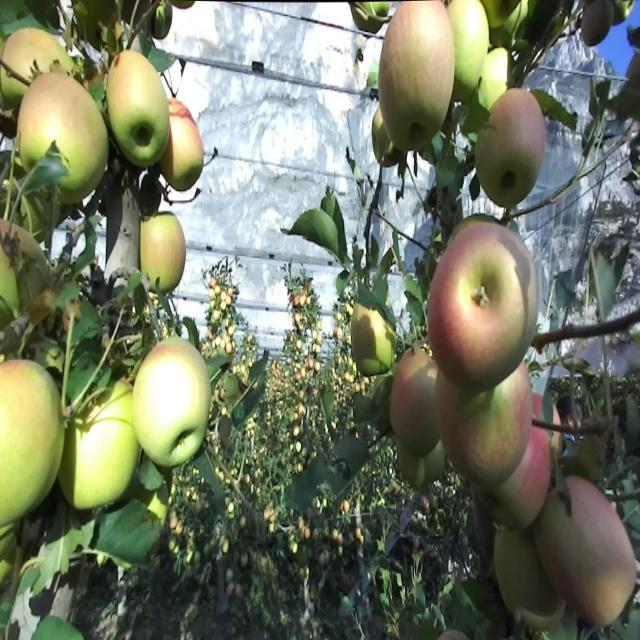apple: (56, 376, 148, 514), (380, 0, 460, 140), (0, 355, 66, 524), (132, 333, 213, 469), (472, 84, 549, 213), (52, 77, 116, 208), (468, 362, 533, 482), (108, 49, 167, 156), (56, 99, 111, 204), (388, 348, 444, 448), (496, 92, 548, 185), (0, 28, 58, 108), (16, 77, 66, 169), (512, 419, 552, 530), (140, 212, 188, 299), (448, 0, 489, 100), (0, 28, 56, 100), (160, 106, 205, 194), (476, 129, 523, 212), (452, 20, 492, 105), (352, 305, 395, 377), (396, 435, 447, 492), (4, 28, 44, 100), (376, 92, 417, 160), (480, 49, 512, 114), (452, 42, 483, 105), (580, 1, 612, 52), (484, 0, 518, 41), (28, 284, 58, 329), (460, 100, 491, 140), (152, 6, 172, 43), (64, 305, 83, 338)
